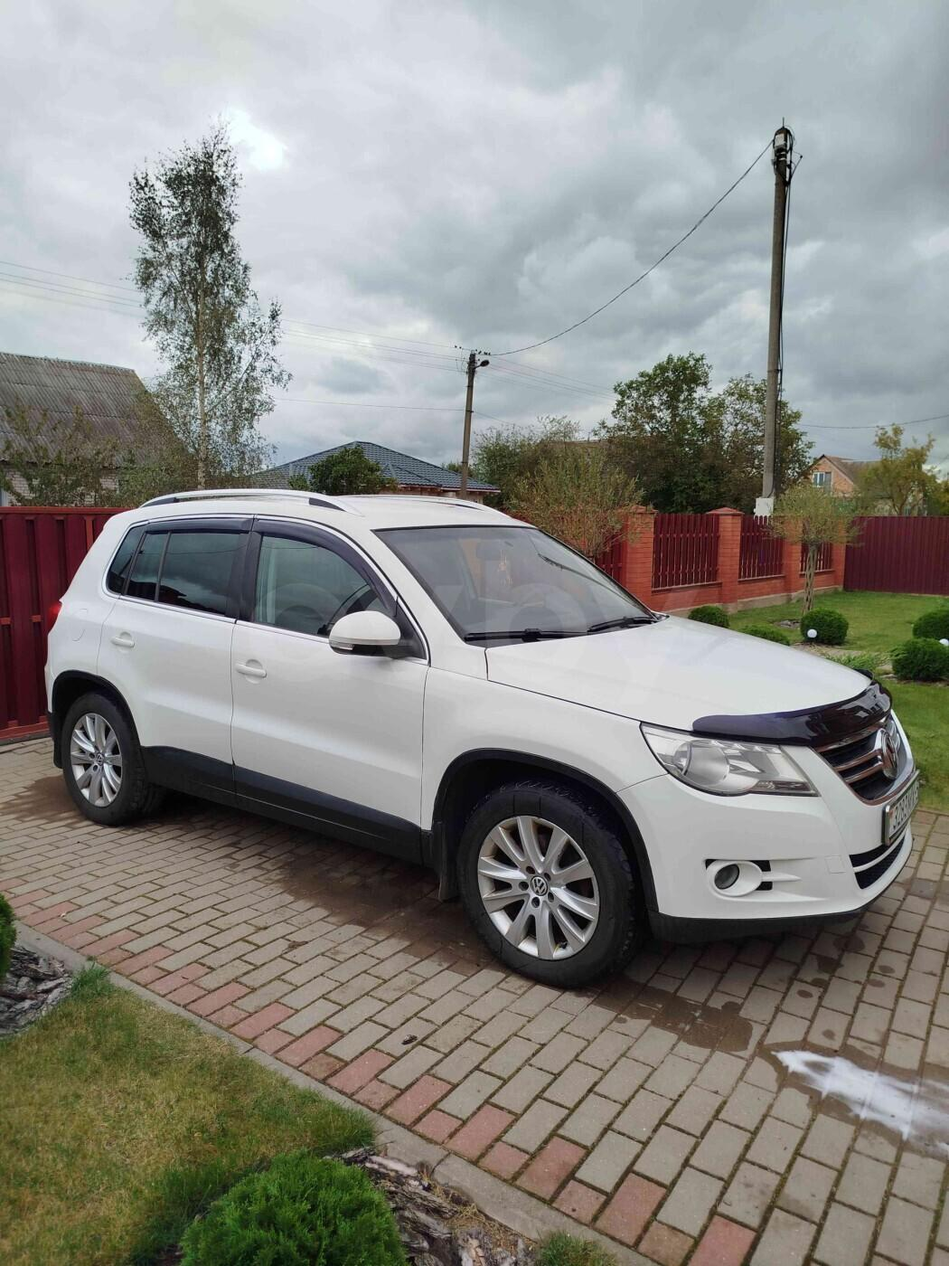Tiguan_2007-2011: (40, 492, 922, 986)
